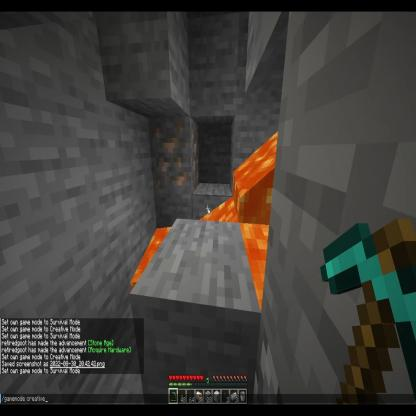iron ore: (146, 114, 200, 197)
